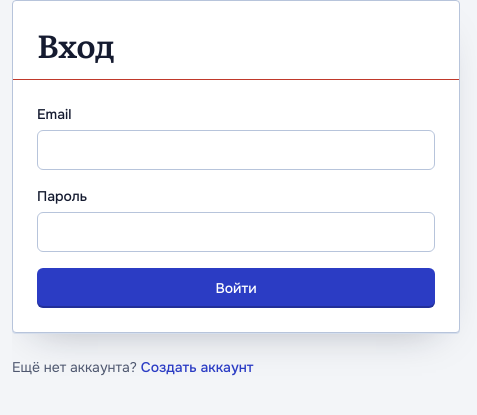
LoginForm › shows its own wording when the server rejects a field
Type "person@site.local" into the field labelled "Email".
click(236, 150); type("person@site.local")  # box [37,130,435,170]
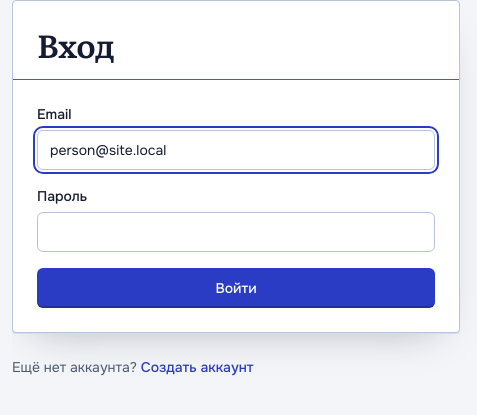
Type "correct horse battery" into the password field labelled "Пароль".
click(236, 232); type("correct horse battery")  # box [37,212,435,252]
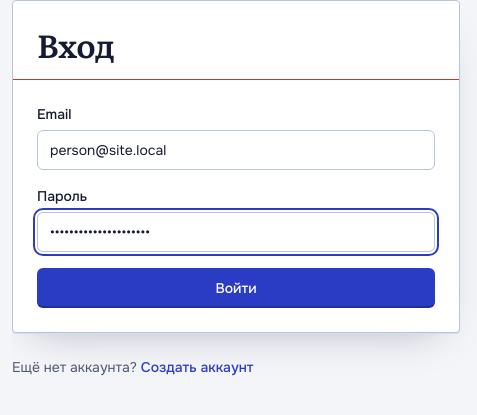
Click the button "Войти".
click(236, 288)  # box [37,268,435,308]
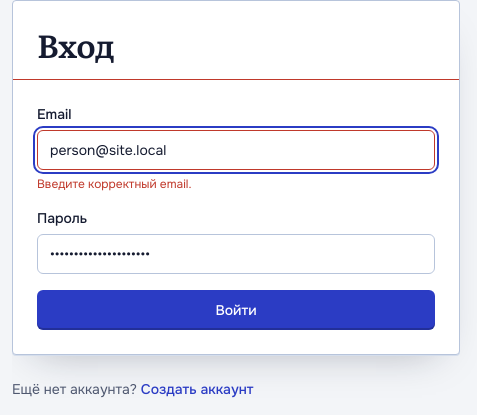
Expected: the text "Введите корректный email." is shown, [37,176,192,192]
